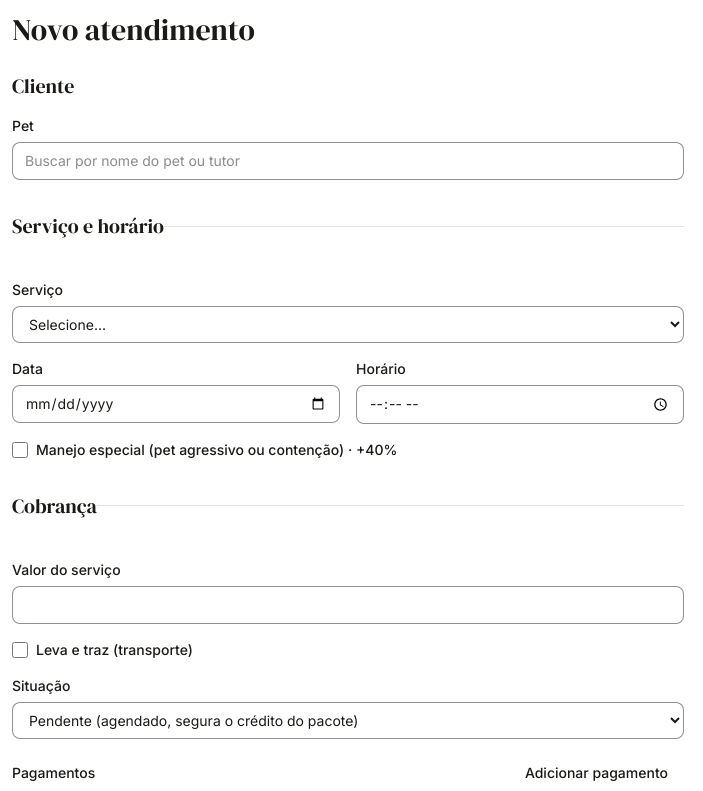
Test: AtendimentoForm › sugere o preço da faixa de peso do pet
The width and height of the screenshot is (703, 791).
Type "Luna" into the dropdown labelled "Pet".
click(348, 161); type("Luna")  # box x1=12 y1=142 x2=684 y2=180
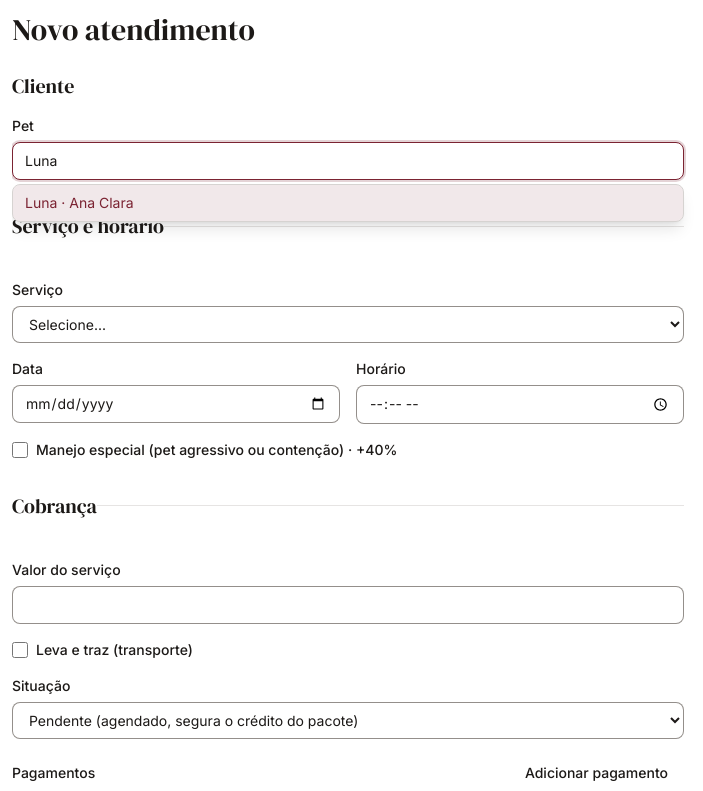
Expected: the option "Luna · Ana Clara" is shown
Click the option "Luna · Ana Clara".
click(79, 202)  # box x1=13 y1=185 x2=683 y2=221
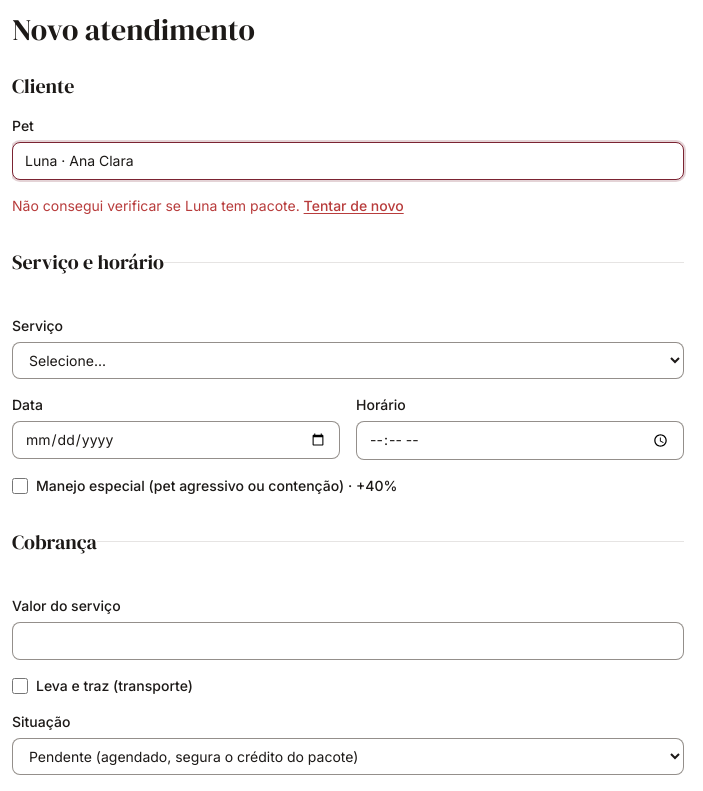
Select "Banho" in the dropdown labelled "Serviço" at [348, 360], box x1=12 y1=342 x2=684 y2=379
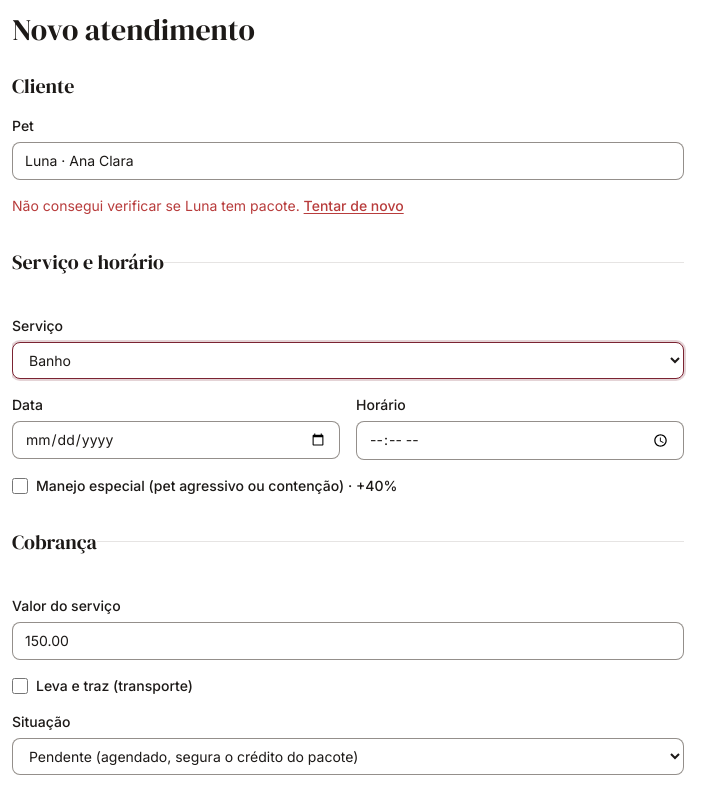
Expected: the field labelled "Valor do serviço" holds "150.00", x1=12 y1=622 x2=684 y2=660
